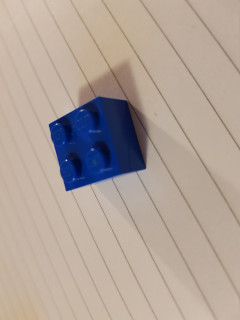2x2 blue: (46, 95, 148, 193)
